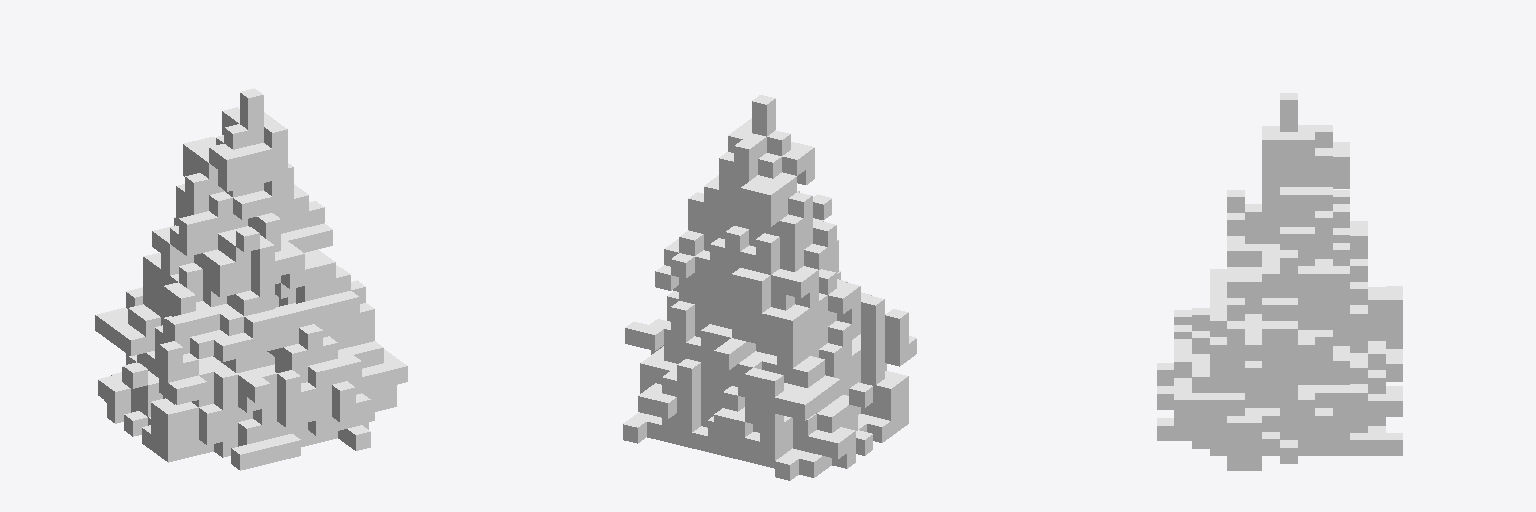
Rendered from Rock_All.obj.
3 views of the same model, side by side, from view 1: azimuth 30°, elevation 25°; view 2: azimuth 150°, elevation 25°; view 3: azimuth 270°, elevation 25° (orthographic).
Parts seen in each view (by area): view 1: object 1; view 2: object 1; view 3: object 1.
Part boxes in pixels (x1,y1,x2,y2): object 1: (95,88,407,470); object 1: (623,95,916,480); object 1: (1157,93,1402,470).
Size of the model in its own units: 1.5 by 2 by 1.4.